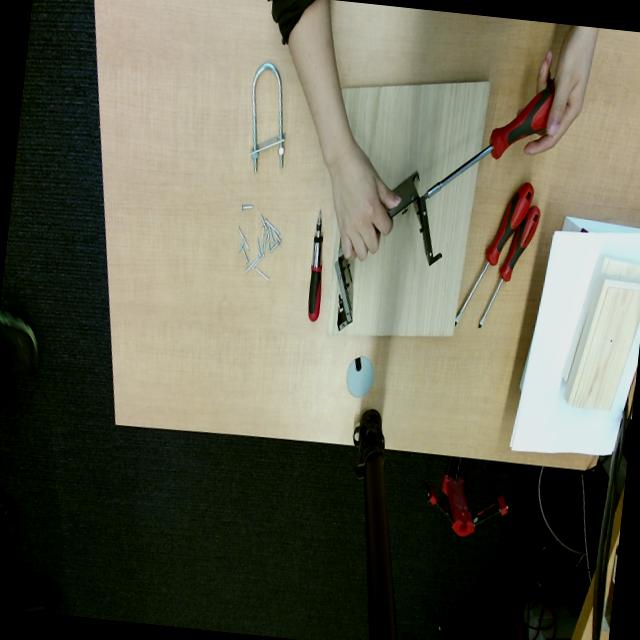screwdriver: (422, 78, 554, 198), (455, 183, 534, 323), (478, 206, 540, 328), (307, 213, 322, 320)
